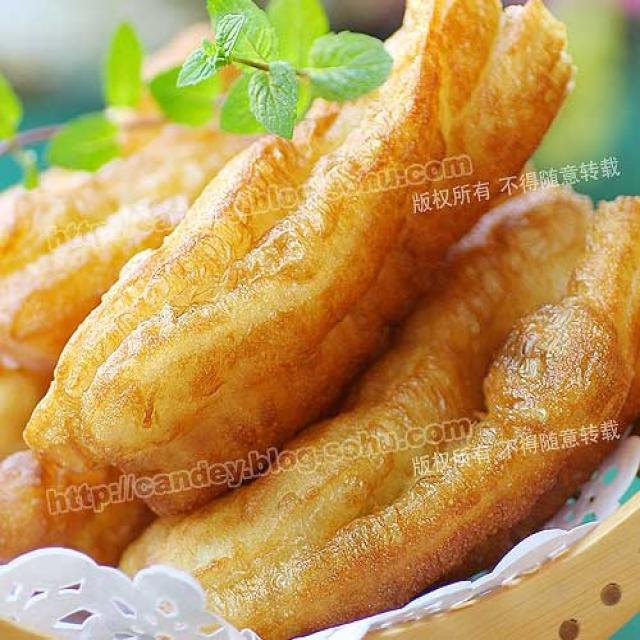炸货点心: (22, 14, 612, 584)
